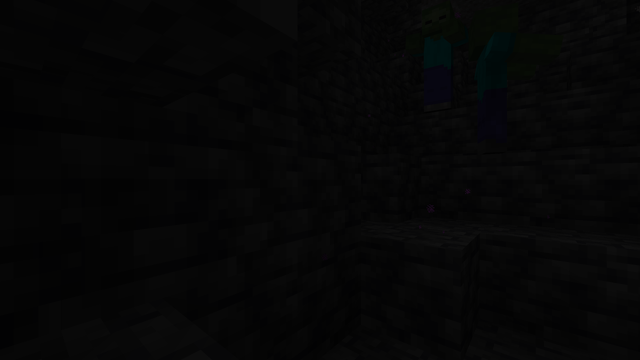zombies: (463, 0, 517, 155), (418, 3, 458, 114)
